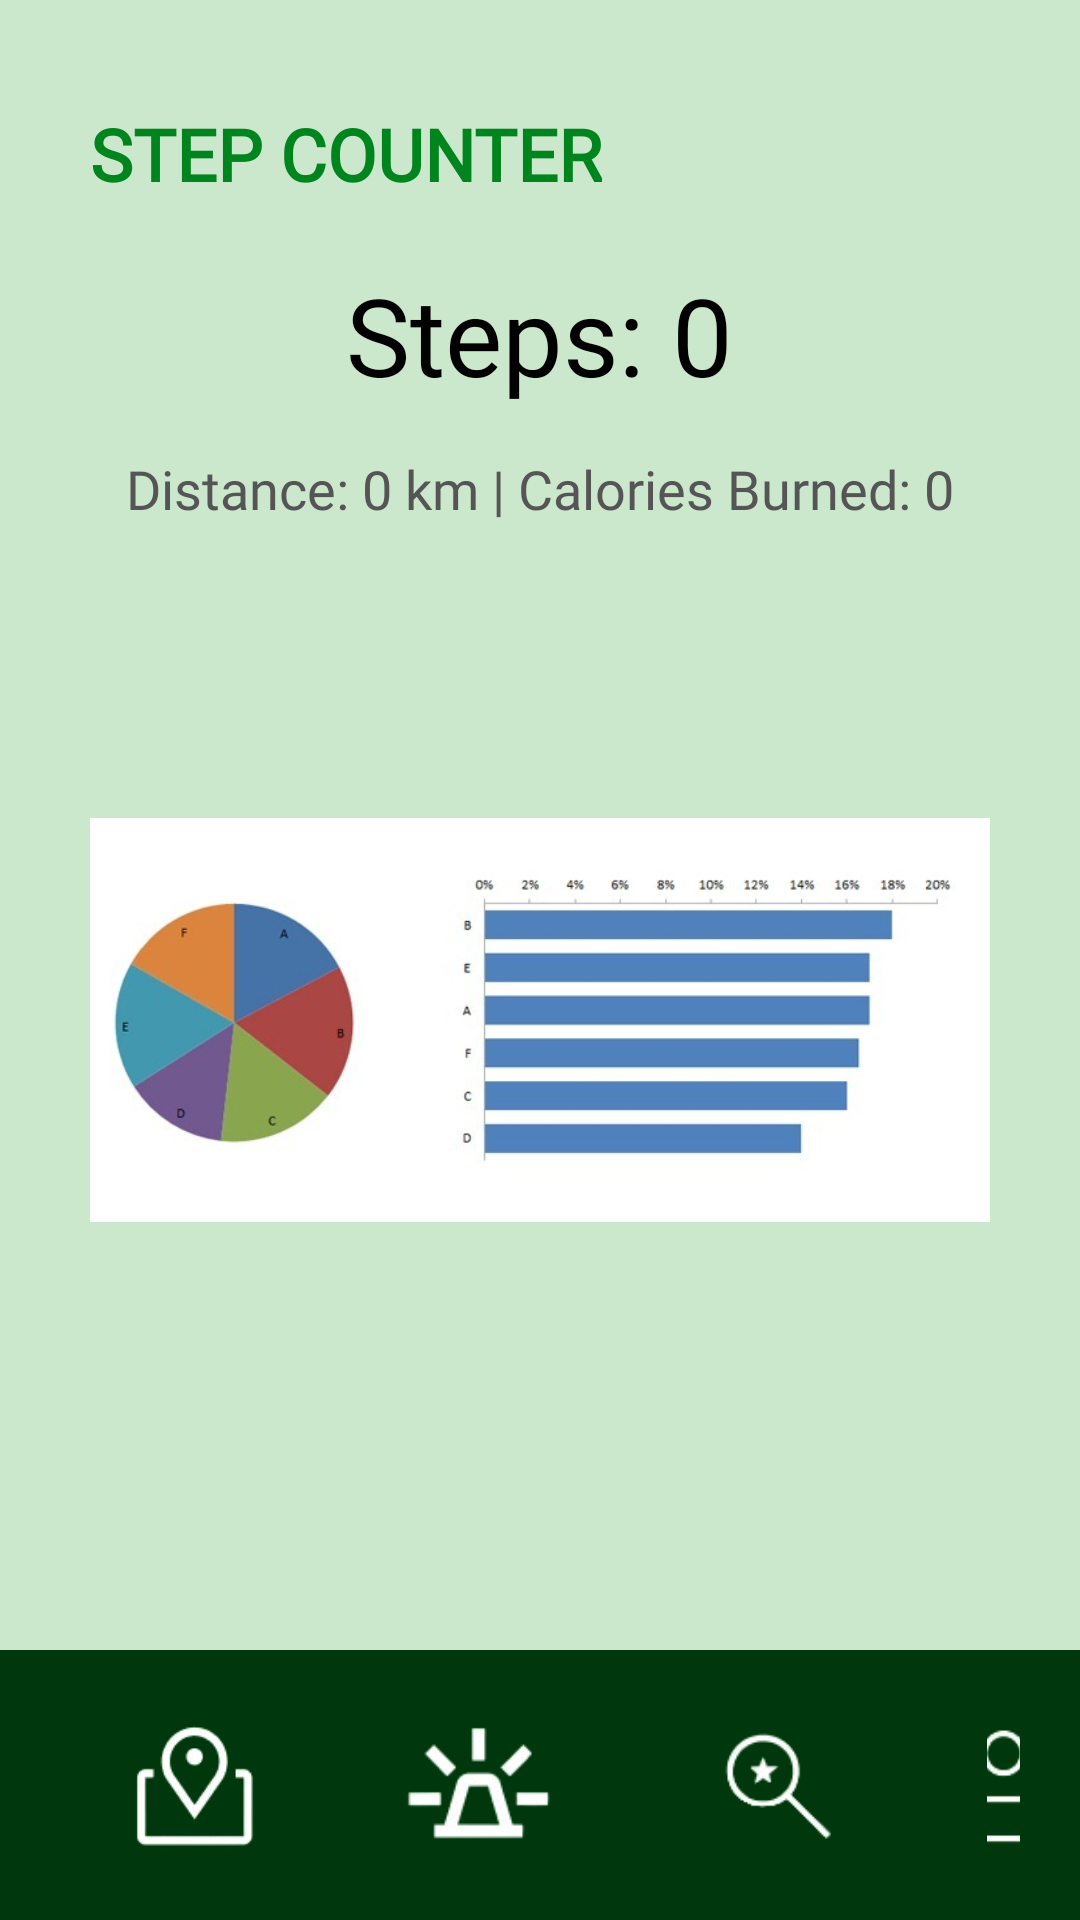

Screen size 1080*1920. Icon name, then its center in pixels as (x,y):
Campus Map: (195,1786)
Emergency: (479,1783)
Saved: (778,1786)
